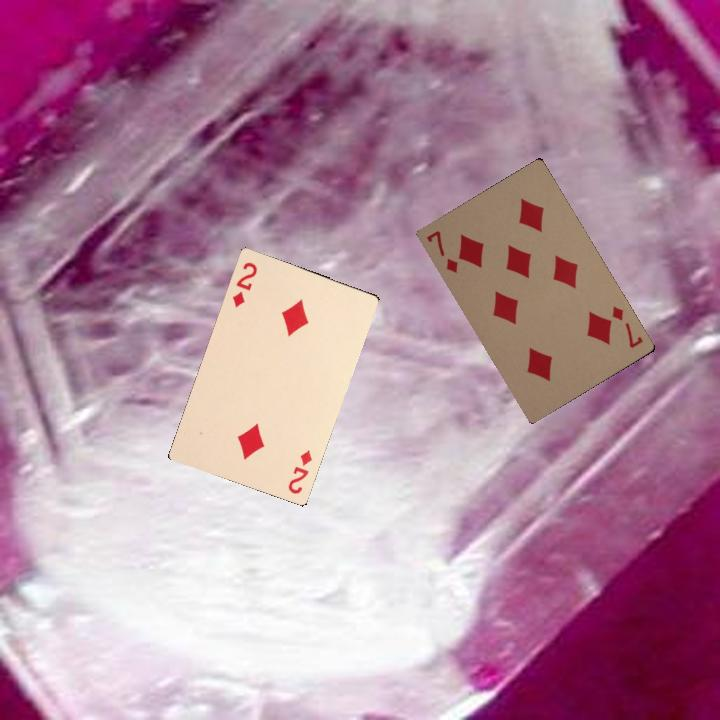2d: (228, 258, 260, 309), (284, 446, 315, 496)
7d: (607, 302, 646, 351), (422, 226, 460, 276)
